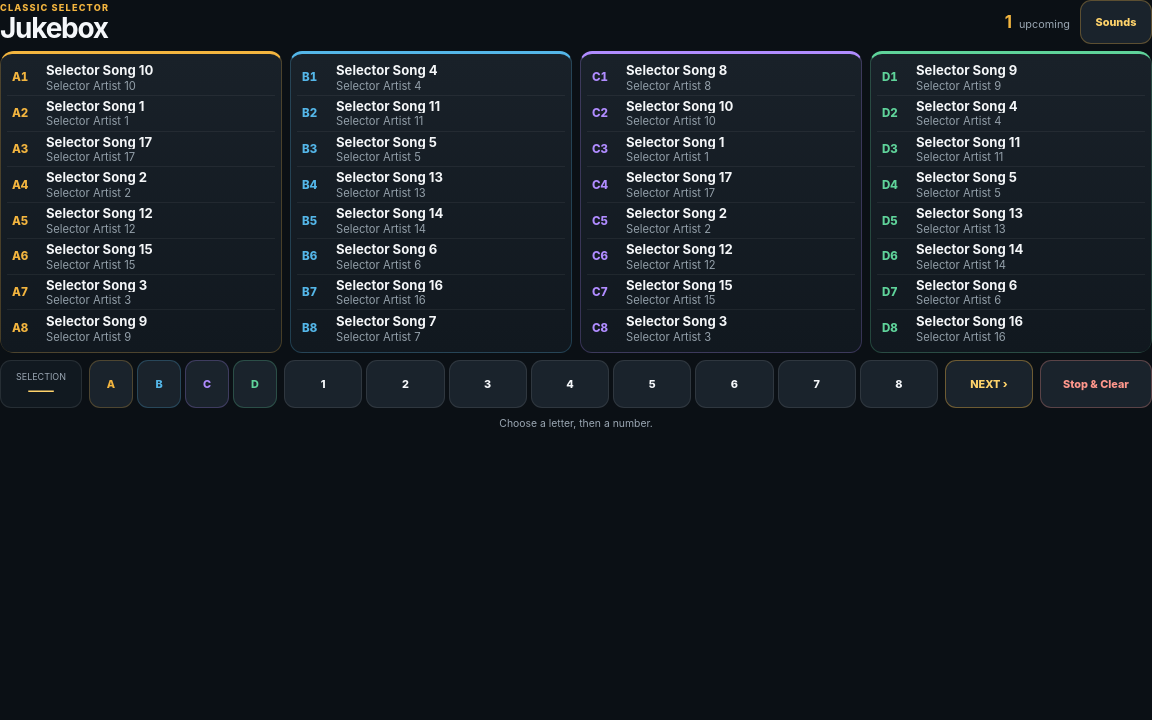
Test: classic Jukebox screen › cancels or confirms Stop & Clear and resets the single audio element
Check: the element named "Panel A" is shown, box [0,51,282,353]
What coordinates should you click on to do the following:
click the button "Stop & Clear"
I would click on:
 (1096, 384)
Its box is [1040,360,1151,408].
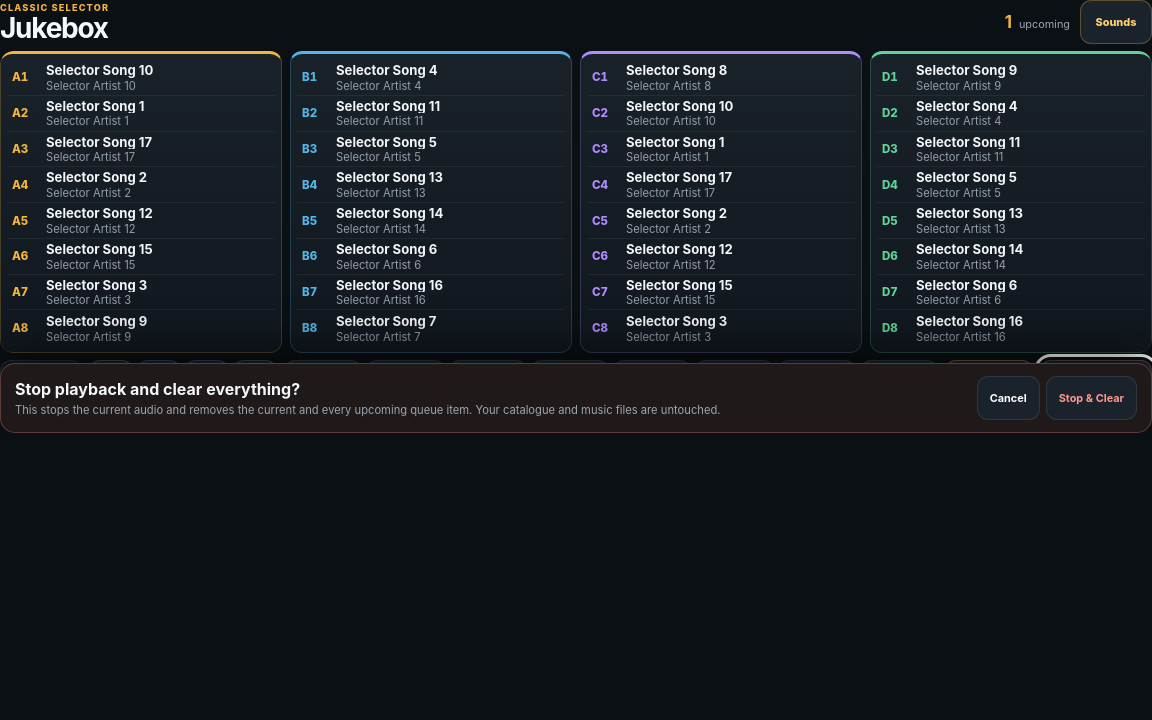
Check: the dialog "Stop playback and clear everything?" is shown, box [0,363,1151,433]
What coordinates should you click on to do the following:
click the button "Cancel"
I would click on:
 (1008, 398)
Its box is [977,376,1040,420].
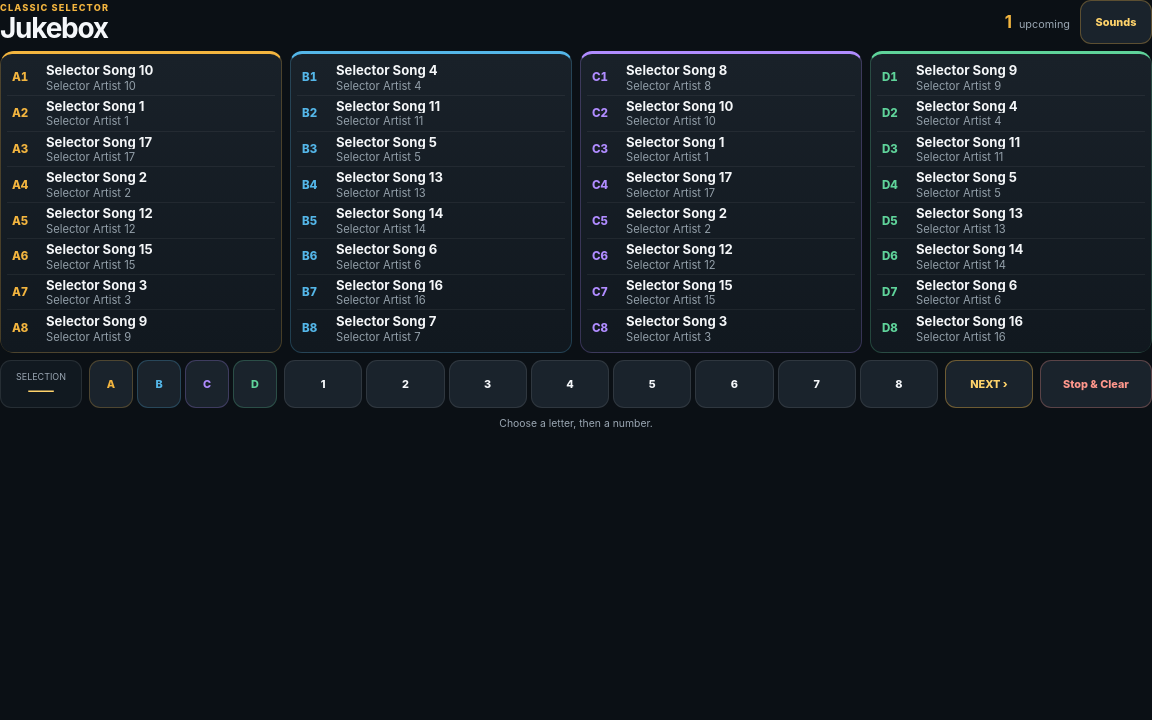
What coordinates should you click on to do the following:
click the button "Stop & Clear"
I would click on:
 (1096, 384)
Its box is [1040,360,1151,408].
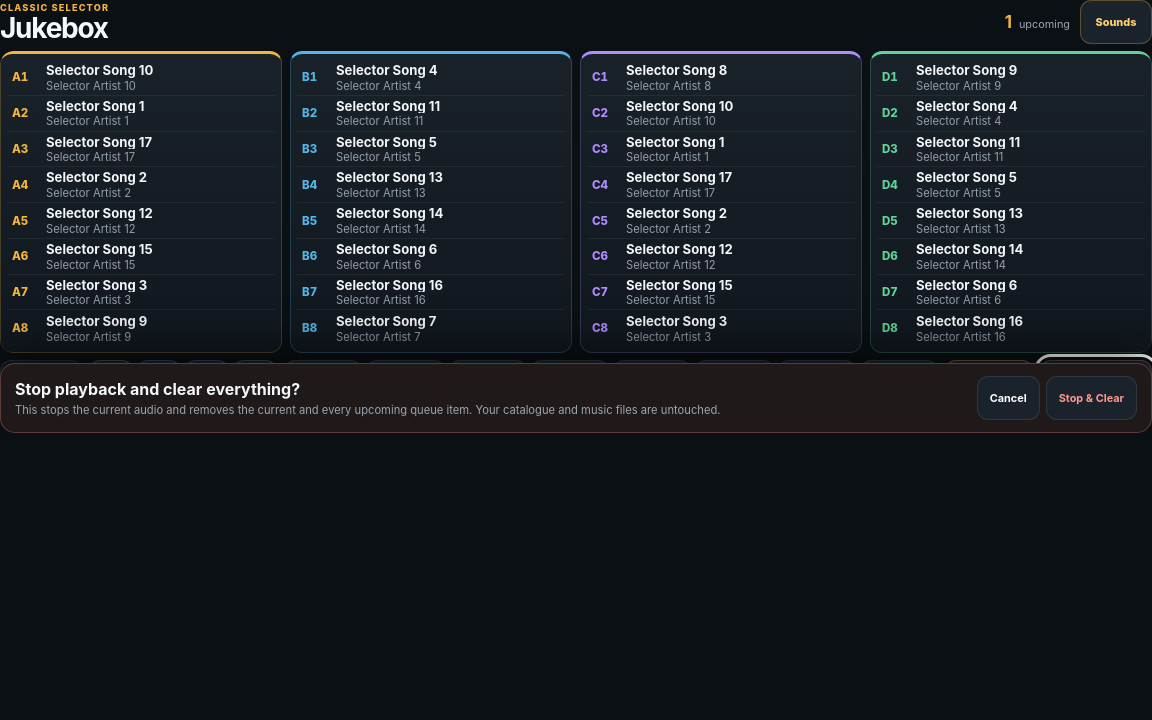
What coordinates should you click on to do the following:
click the button "Stop & Clear"
I would click on:
 (1091, 398)
Its box is [1046,376,1137,420].
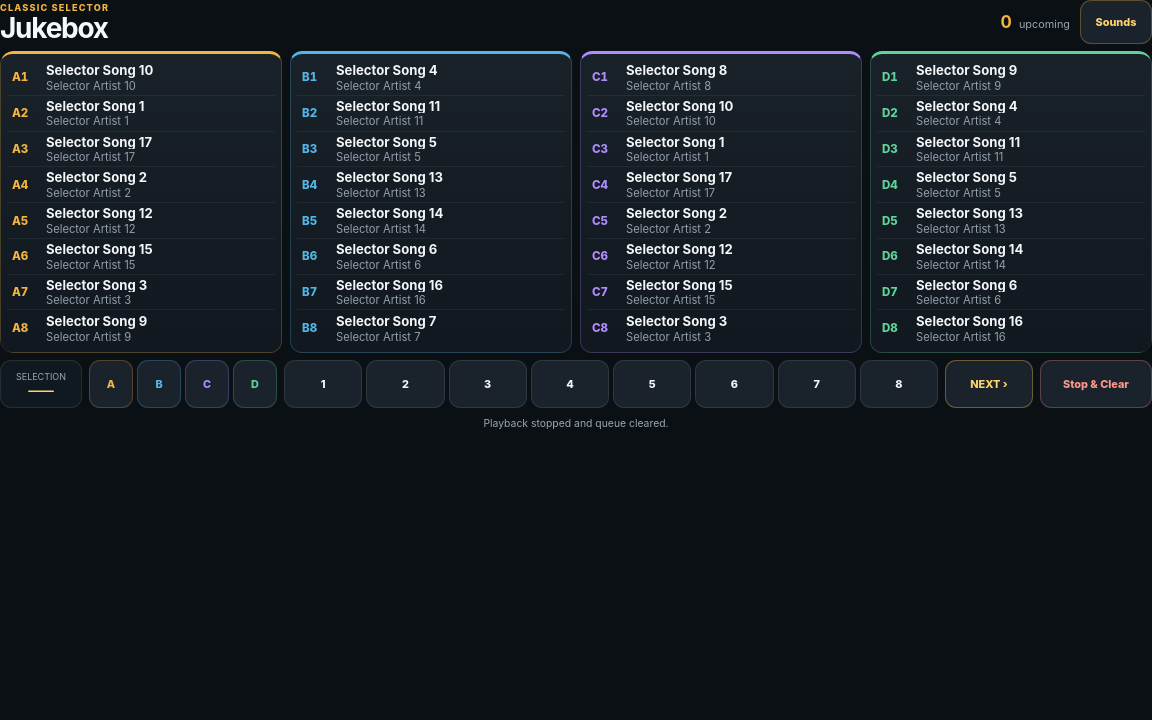
Check: the message reads "Playback stopped and queue cleared.", box [483,417,669,430]
